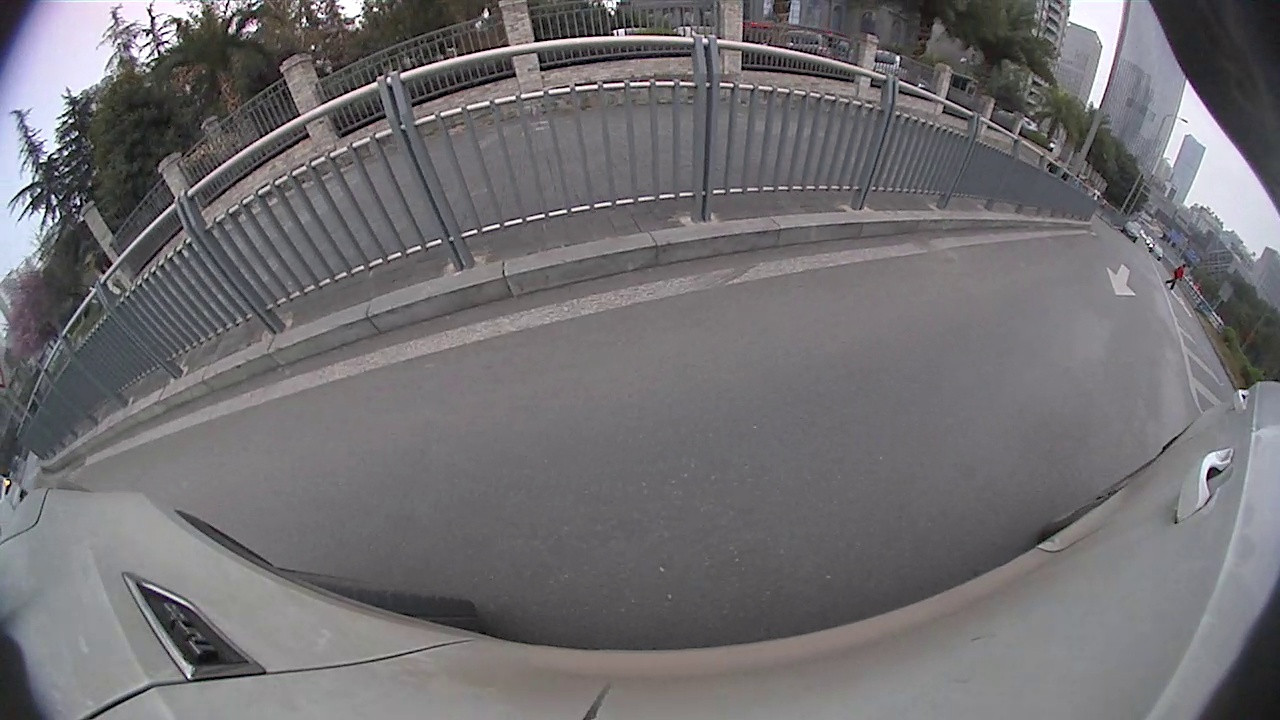car: (1154, 324, 1196, 373)
